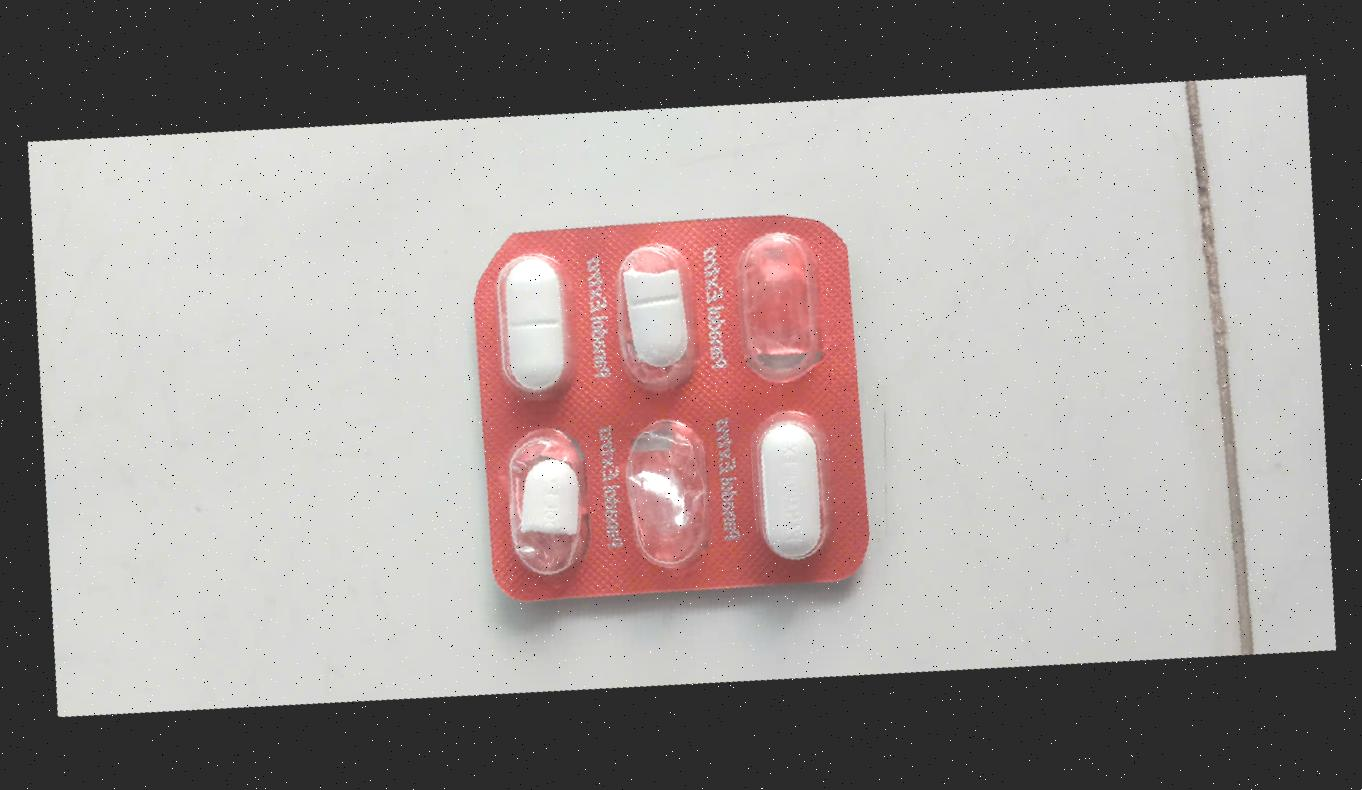Empty: (725, 224, 833, 390), (614, 408, 721, 574)
Full: (739, 405, 847, 571), (485, 241, 592, 408)
Partial: (603, 231, 711, 397), (491, 417, 598, 584)
